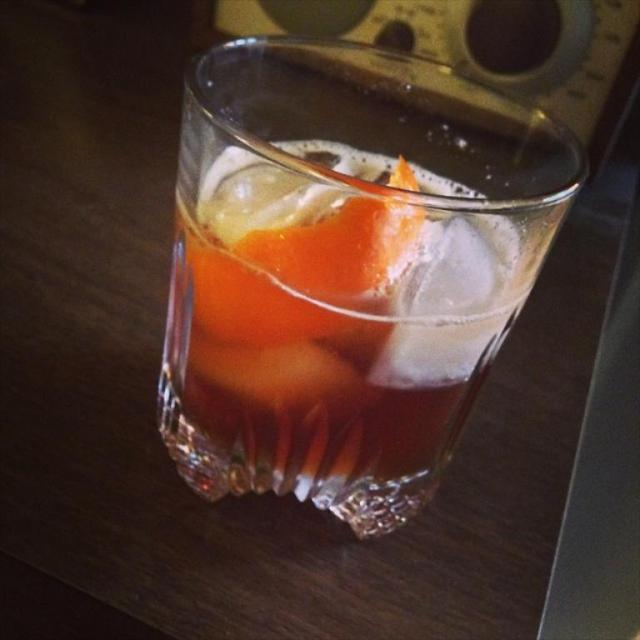Juice: (138, 21, 576, 535)
